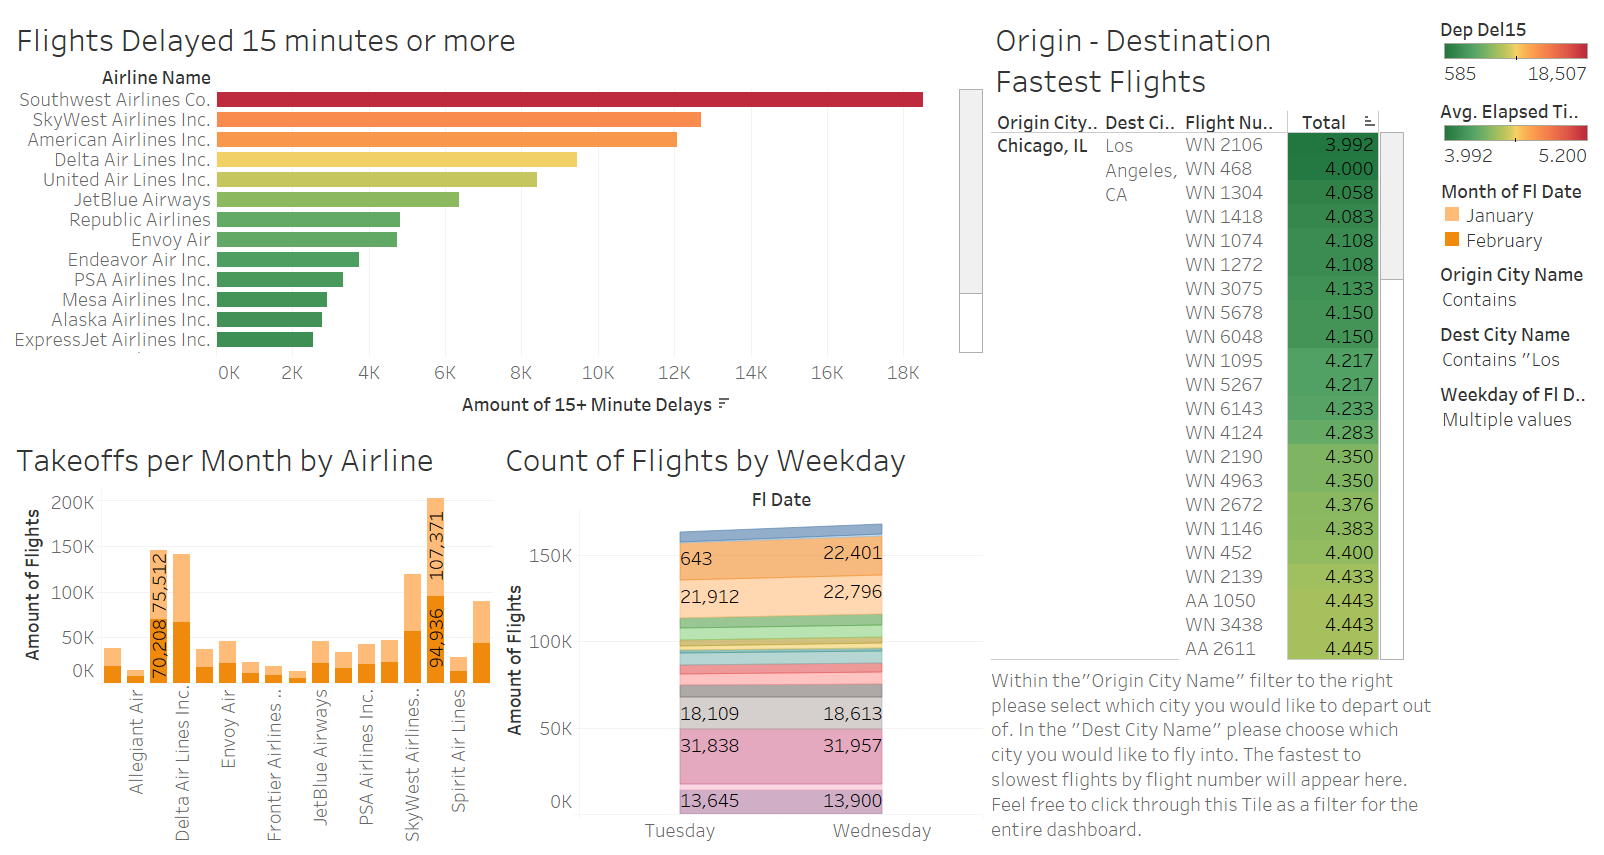

What the dashboard file says about the page in this screenshot:
{"tool":"tableau","page":{"name":"Dashboard 1","canvas":[1000,1000],"units":"permille","ordinal":0},"visuals":[{"type":"worksheet","title":"Flights Delayed 15 minutes or more","mark":"Automatic","rows":["AIRLINE NAME"],"cols":["DEP_DEL15"],"box":[5,9.4,610.4,490.6]},{"type":"worksheet","title":"Origin - Destination Fastest Flights","mark":"Square","rows":["ORIGIN_CITY_NAME","DEST_CITY_NAME","Calculation_1702079206017064960"],"box":[615.3,9.4,279.9,981.3]},{"type":"legend","title":"Flights Delayed 15 minutes or more","param":"[federated.18nyzzl0f5hkyd13ubz0f0zxo7qe].[sum:DEP_DEL15:qk]","box":[895.3,9.4,99.8,94.7]},{"type":"legend","title":"Origin - Destination Fastest Flights","param":"[federated.18nyzzl0f5hkyd13ubz0f0zxo7qe].[avg:Calculation_2731714672222003200:qk","box":[895.3,104.1,99.8,94.7]},{"type":"legend","title":"Takeoffs by Month","param":"[federated.18nyzzl0f5hkyd13ubz0f0zxo7qe].[mn:FL_DATE:ok]","box":[895.3,198.8,99.8,98.2]},{"type":"filter","title":"Origin - Destination Fastest Flights","param":"[federated.18nyzzl0f5hkyd13ubz0f0zxo7qe].[none:ORIGIN_CITY_NAME:nk]","box":[895.3,297.1,99.8,70.2]},{"type":"filter","title":"Origin - Destination Fastest Flights","param":"[federated.18nyzzl0f5hkyd13ubz0f0zxo7qe].[none:DEST_CITY_NAME:nk]","box":[895.3,367.3,99.8,70.2]},{"type":"filter","title":"Count of Flights by Weekday","param":"[federated.18nyzzl0f5hkyd13ubz0f0zxo7qe].[wd:FL_DATE:ok]","box":[895.3,437.4,99.8,70.2]},{"type":"worksheet","title":"Takeoffs by Month","mark":"Bar","rows":["WHEELS_OFF"],"cols":["AIRLINE NAME"],"box":[5,500,305.2,490.6]},{"type":"worksheet","title":"Count of Flights by Weekday","mark":"Area","rows":["WHEELS_OFF"],"cols":["FL_DATE"],"box":[310.2,500,305.2,490.6]}]}

Visuals, with their boxes on the dashboard's canvas, which has no fixed pixel size, in thousandths of its width and height (x1, y1, x2, y2). These are canvas units, not pixel positions in the 1604x855 screenshot, which may show the page scaled, cropped or inside an application window:
"Flights Delayed 15 minutes or more" worksheet: 5/9/615/500
"Origin - Destination Fastest Flights" worksheet (Square marks): 615/9/895/991
"Flights Delayed 15 minutes or more" legend: 895/9/995/104
"Origin - Destination Fastest Flights" legend: 895/104/995/199
"Takeoffs by Month" legend: 895/199/995/297
"Origin - Destination Fastest Flights" filter: 895/297/995/367
"Origin - Destination Fastest Flights" filter: 895/367/995/438
"Count of Flights by Weekday" filter: 895/437/995/508
"Takeoffs by Month" worksheet (Bar marks): 5/500/310/991
"Count of Flights by Weekday" worksheet (Area marks): 310/500/615/991
